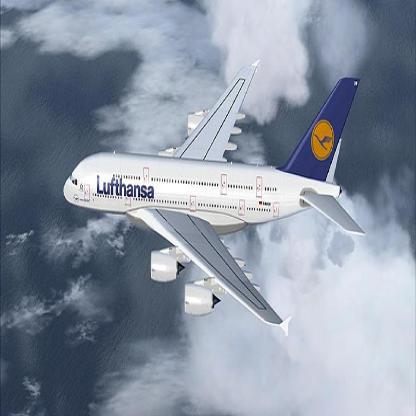CIV_Plane: (61, 53, 374, 340)
